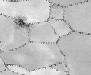good_void: (14, 16, 30, 30)
